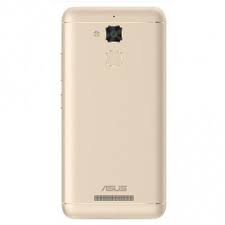asus: (56, 6, 170, 220)
